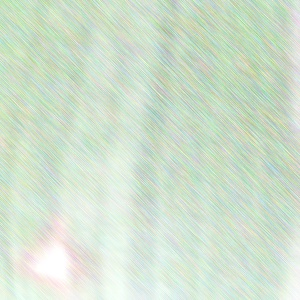Brown_Spot: (16, 198, 94, 291)
